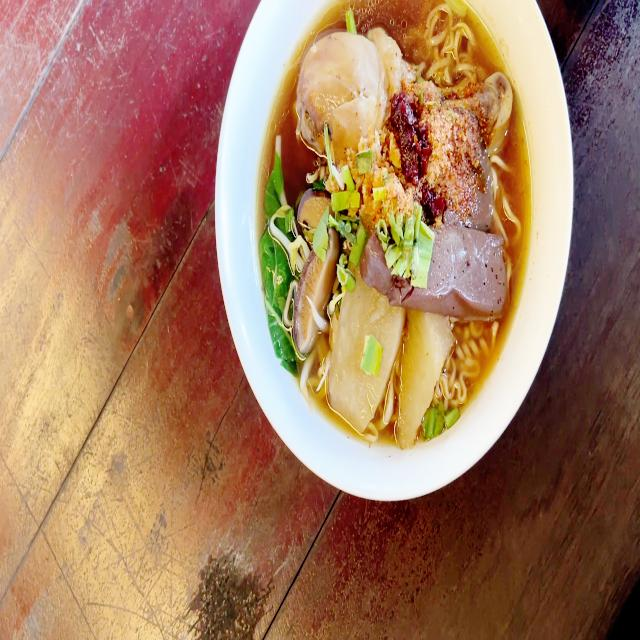boiled_chicken_blood_jelly: (429, 226, 504, 311), (473, 143, 494, 219), (365, 243, 392, 292)
chicken_drumstick: (298, 30, 512, 156)
daikon_radish: (336, 307, 445, 432)
noodle: (266, 0, 522, 421)
